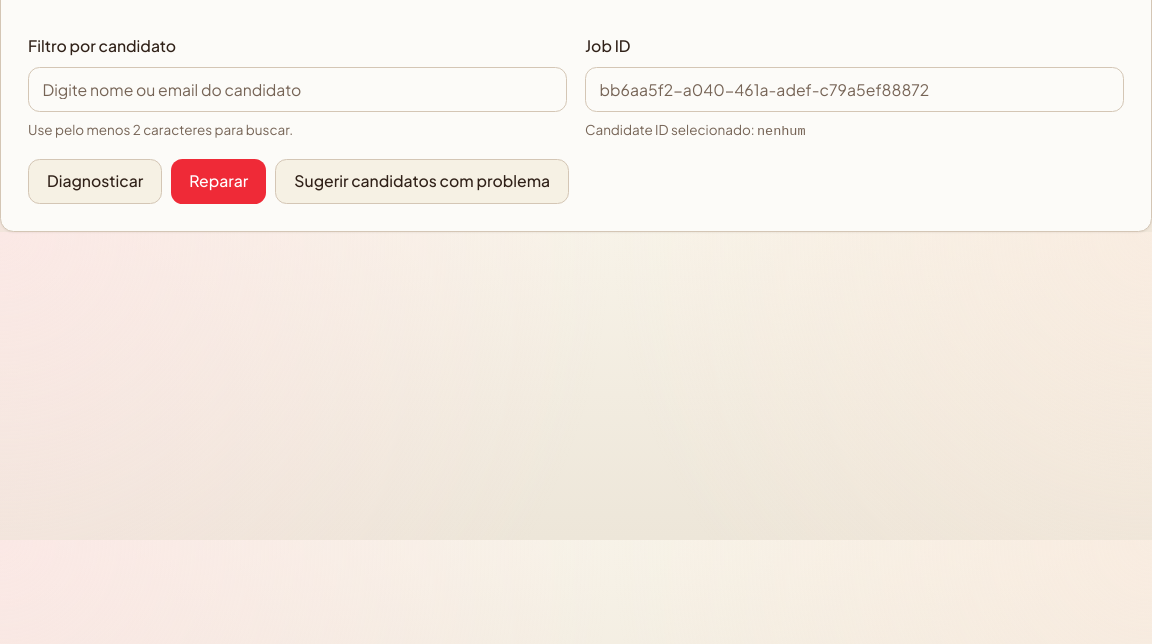
it: CandidateJobFlowDiagnosticsCard › exibe checklist com true/false e alerta para status não concluído
Type "Alice" into the field labelled "Filtro por candidato" at [298, 89], box [28, 66, 567, 112]
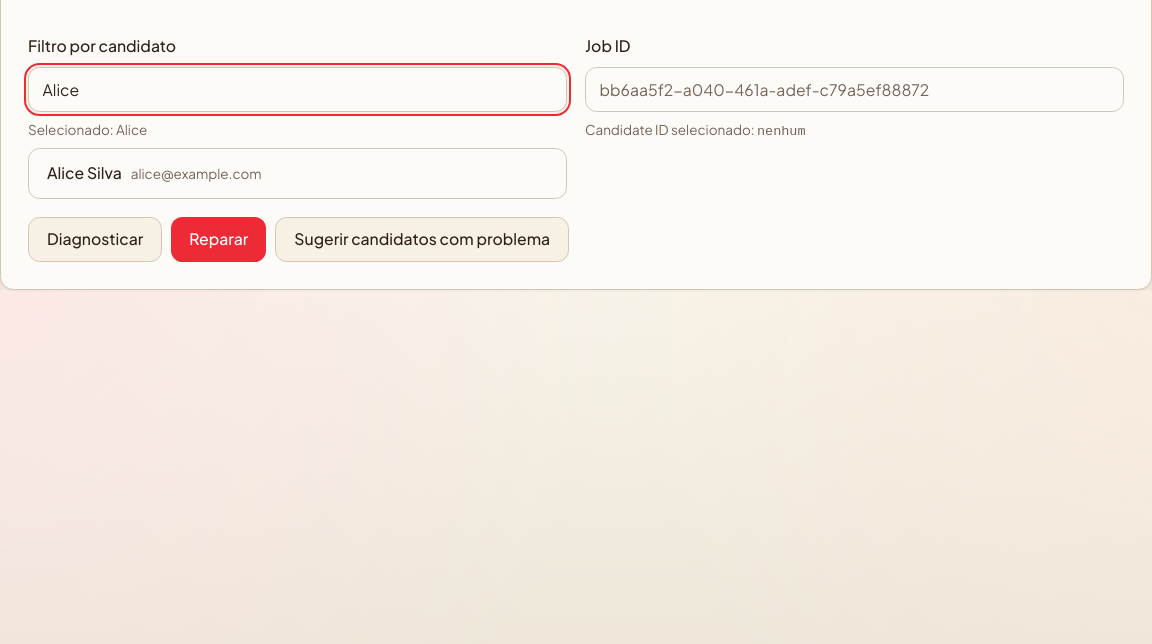
Click the button "Alice Silva" at [84, 172], box [38, 158, 557, 189]
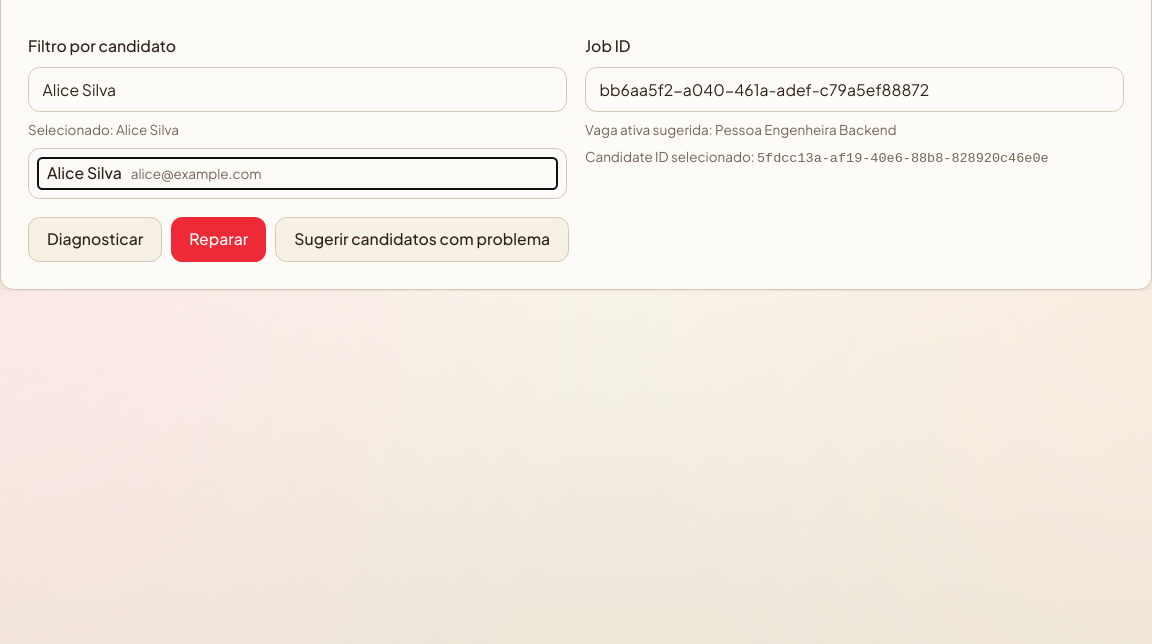
Check: the field labelled "Job ID" holds "bb6aa5f2-a040-461a-adef-c79a5ef88872", box [585, 66, 1124, 112]
Click the button "Diagnosticar" at [95, 240], box [28, 217, 162, 262]
(page scrolled)
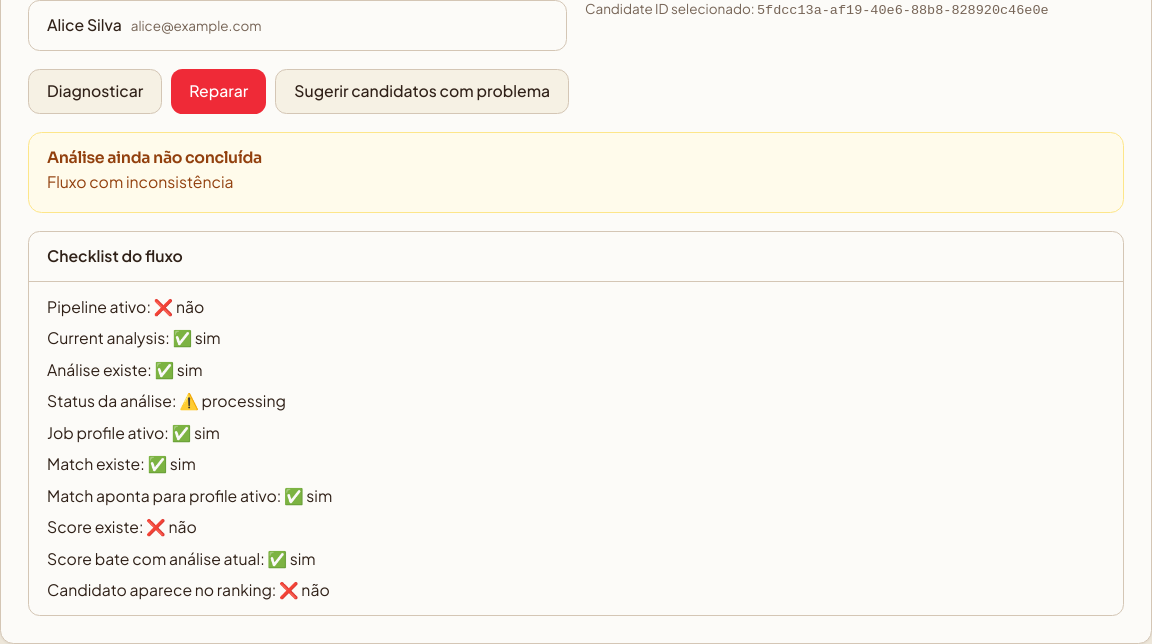
Check: the list item "Pipeline ativo: ❌ não" is shown, box [47, 297, 204, 316]
Check: the list item "Status da análise: ⚠️ processing" is shown, box [47, 391, 286, 410]
Check: the list item "Score existe: ❌ não" is shown, box [47, 517, 197, 536]
